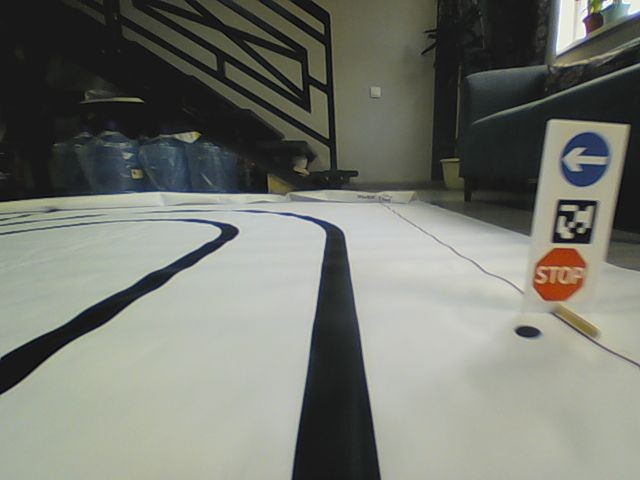Stop: (530, 248, 588, 302)
